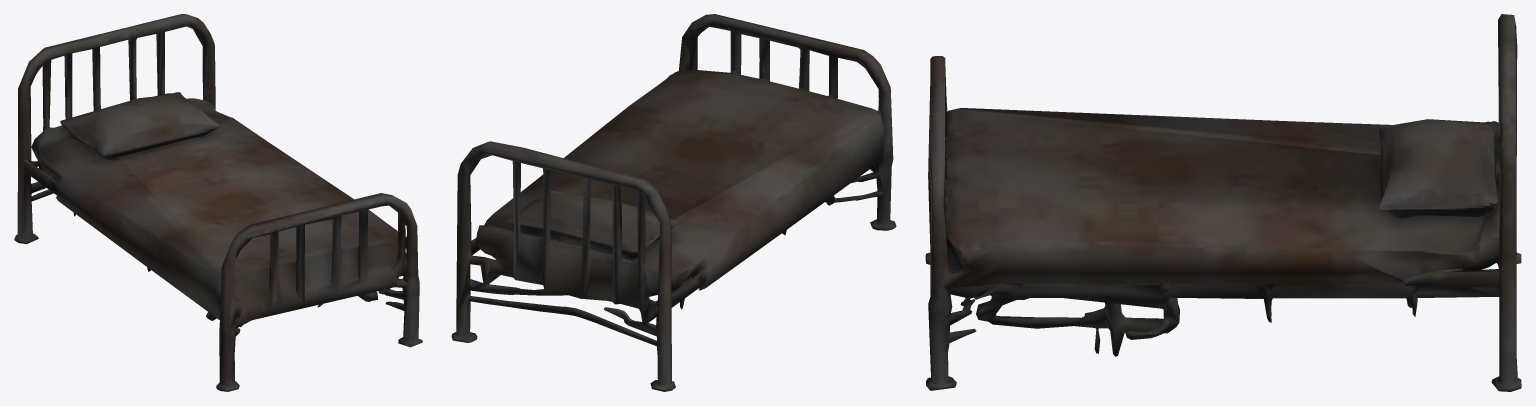
Rendered from worn-iron-asylum-bed-v001.glb.
3 views of the same model, side by side, from view 1: azimuth 30°, elevation 25°; view 2: azimuth 150°, elevation 25°; view 3: azimuth 270°, elevation 25° (orthographic). The views are drawn at different scales.
Parts seen in each view (by area): view 1: worn-iron-asylum-bed; view 2: worn-iron-asylum-bed; view 3: worn-iron-asylum-bed.
Part boxes in pixels (x1,y1,x2,y2): worn-iron-asylum-bed: (14, 14, 422, 391); worn-iron-asylum-bed: (451, 14, 896, 391); worn-iron-asylum-bed: (925, 14, 1521, 391).
Bounding box in the file's own units: 1.02 × 0.891 × 1.83.
Materials: 1 (1 with a texture image).
